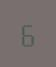six: (19, 19, 34, 47)
